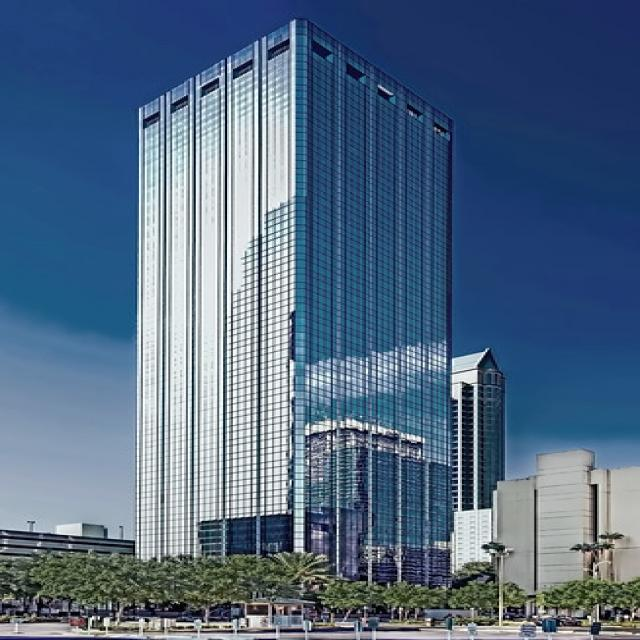Normal_building: (119, 13, 466, 618)
